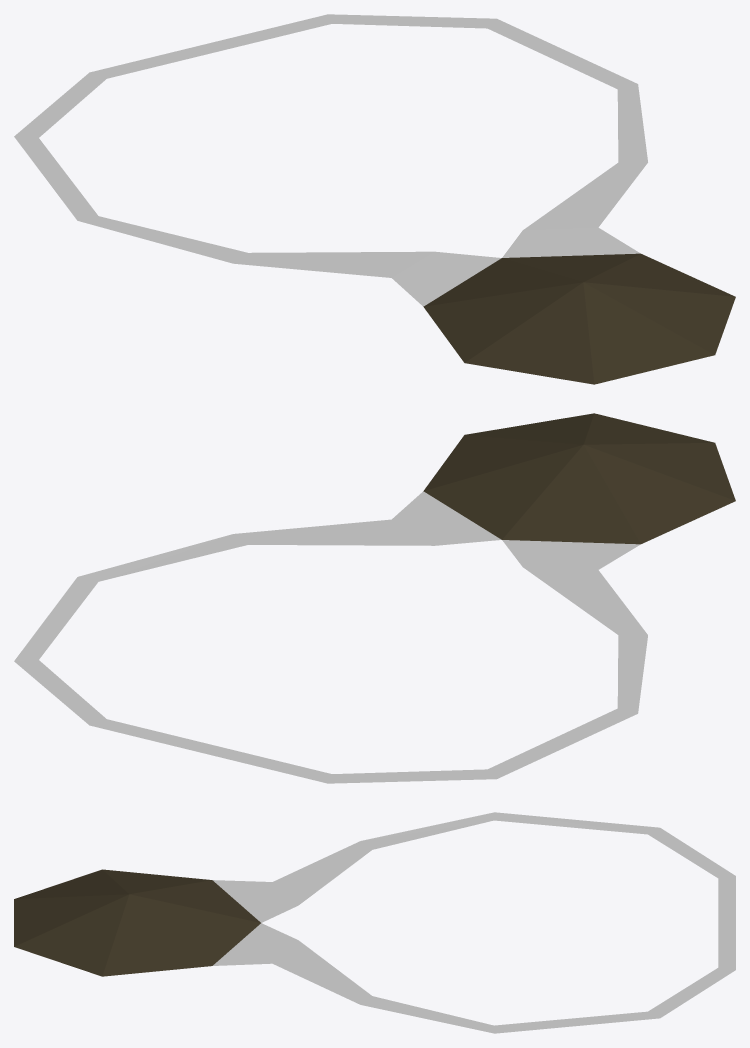
The model's file is ITMI_AMULET_01.OBJ.
3 views of the same model, one above another, from view 1: azimuth 30°, elevation 25°; view 2: azimuth 150°, elevation 25°; view 3: azimuth 270°, elevation 25° (orthographic). The views are drawn at different scales.
Parts seen in each view (by area): view 1: ITMI_AMULET_01; view 2: ITMI_AMULET_01; view 3: ITMI_AMULET_01.
Boxes of the visible parts, left/top/right/bottom form: ITMI_AMULET_01: left=14, top=14, right=735, bottom=384; ITMI_AMULET_01: left=14, top=413, right=735, bottom=783; ITMI_AMULET_01: left=14, top=812, right=735, bottom=1033.
Bounding box in the file's own units: 0.1409 × 0.0171 × 0.1942.
